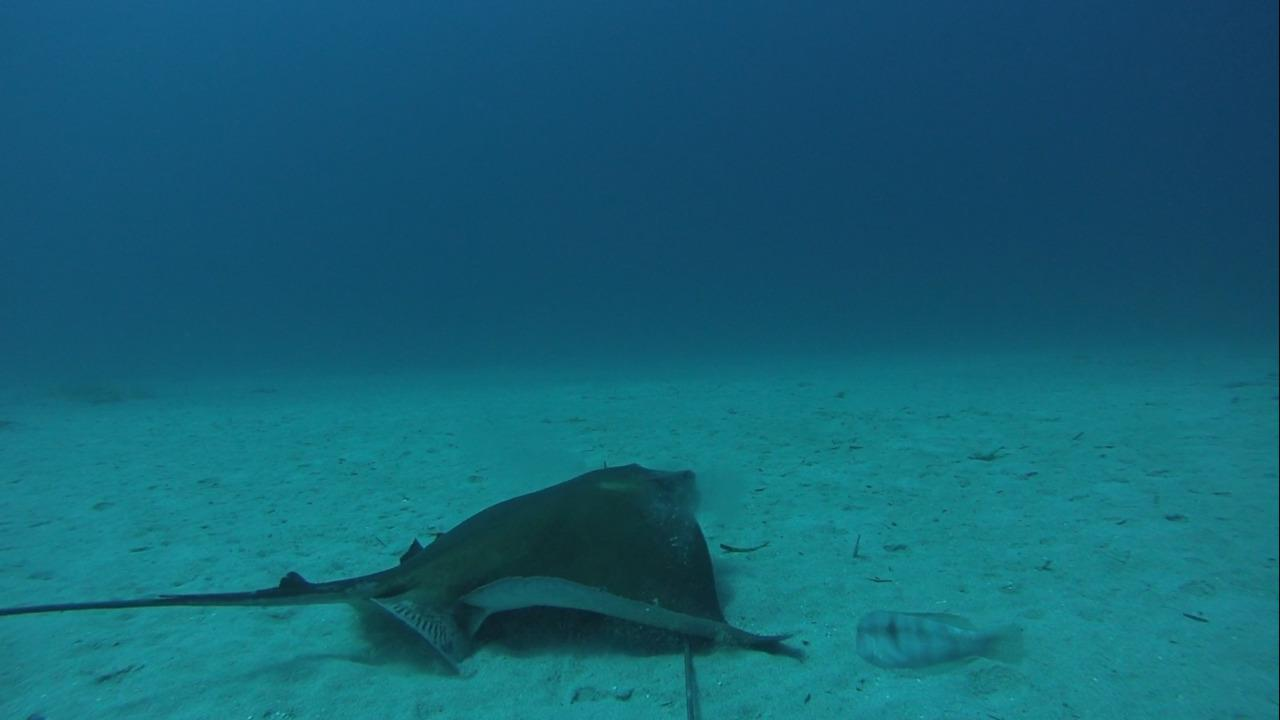myliobatis: (3, 458, 799, 678)
raor: (847, 604, 1025, 682)
